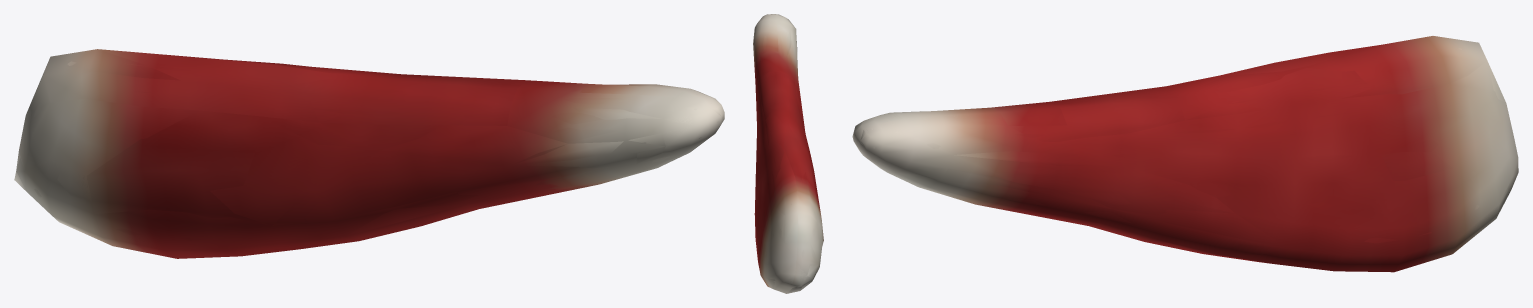
The model's file is L Quadratus Femoris.fbx.
The picture shows the model from 3 angles, left to right: view 1: azimuth 30°, elevation 25°; view 2: azimuth 150°, elevation 25°; view 3: azimuth 270°, elevation 25°; orthographic projection. The views are drawn at different scales.
Parts seen in each view (by area): view 1: L Quadratus Femoris, L Quadratus Femoris low, L Quadratus Femoris high; view 2: L Quadratus Femoris, L Quadratus Femoris low, L Quadratus Femoris high; view 3: L Quadratus Femoris, L Quadratus Femoris low, L Quadratus Femoris high.
Boxes of the visible parts, box(x1,y1,x2,y2) form: L Quadratus Femoris: box(14, 49, 724, 258); L Quadratus Femoris low: box(16, 49, 723, 255); L Quadratus Femoris high: box(34, 61, 722, 250); L Quadratus Femoris: box(753, 14, 823, 293); L Quadratus Femoris low: box(753, 16, 820, 293); L Quadratus Femoris high: box(754, 17, 816, 282); L Quadratus Femoris: box(852, 36, 1518, 272); L Quadratus Femoris low: box(860, 36, 1507, 268); L Quadratus Femoris high: box(858, 48, 1507, 260).
Bounding box in the file's own units: 1.09 × 0.7057 × 1.54.
